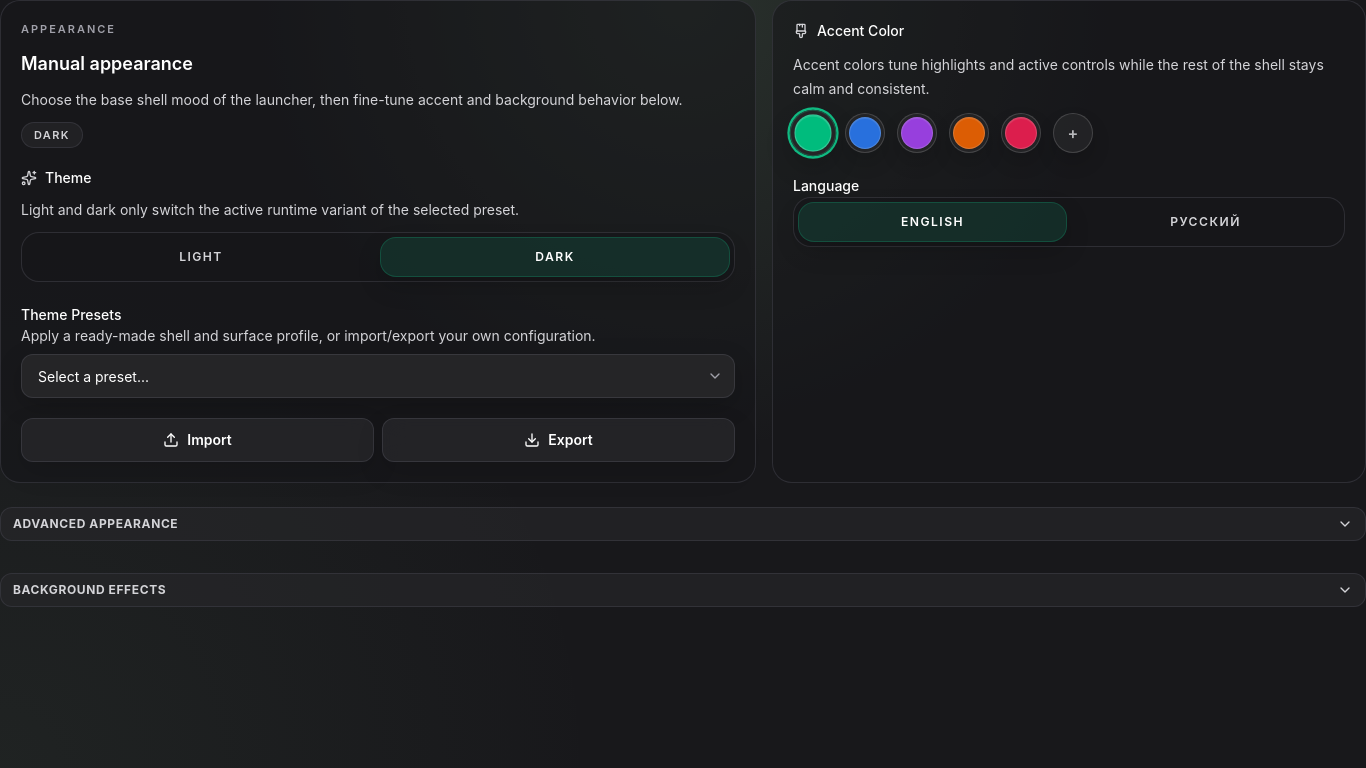
Test case: AppearanceTab preset contract › keeps preset ownership when a bounded advanced override is applied
Select "Forest" in the dropdown named "Theme Presets". click: x=378, y=376
box: 21,354 -> 735,398
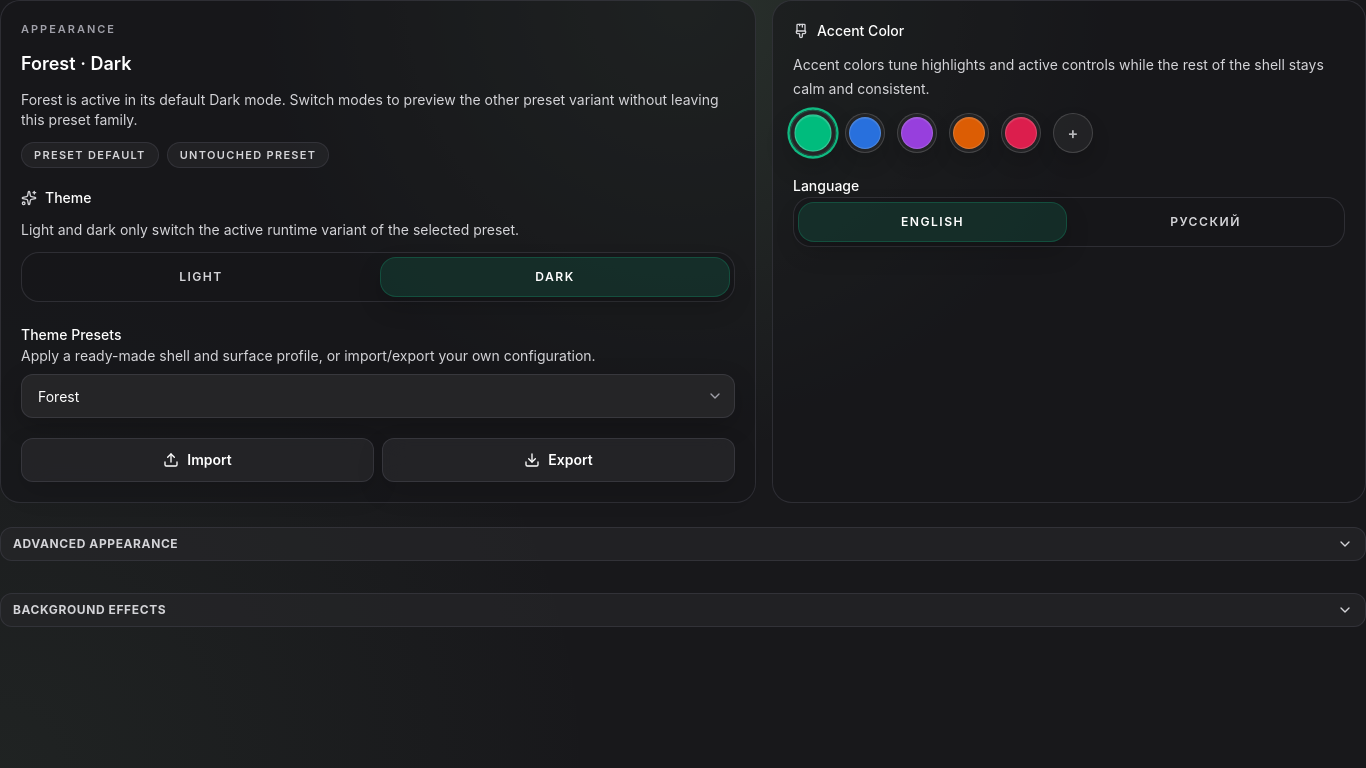
Click the button "Advanced Appearance". click: x=96, y=544
box: 0,527 -> 1365,561
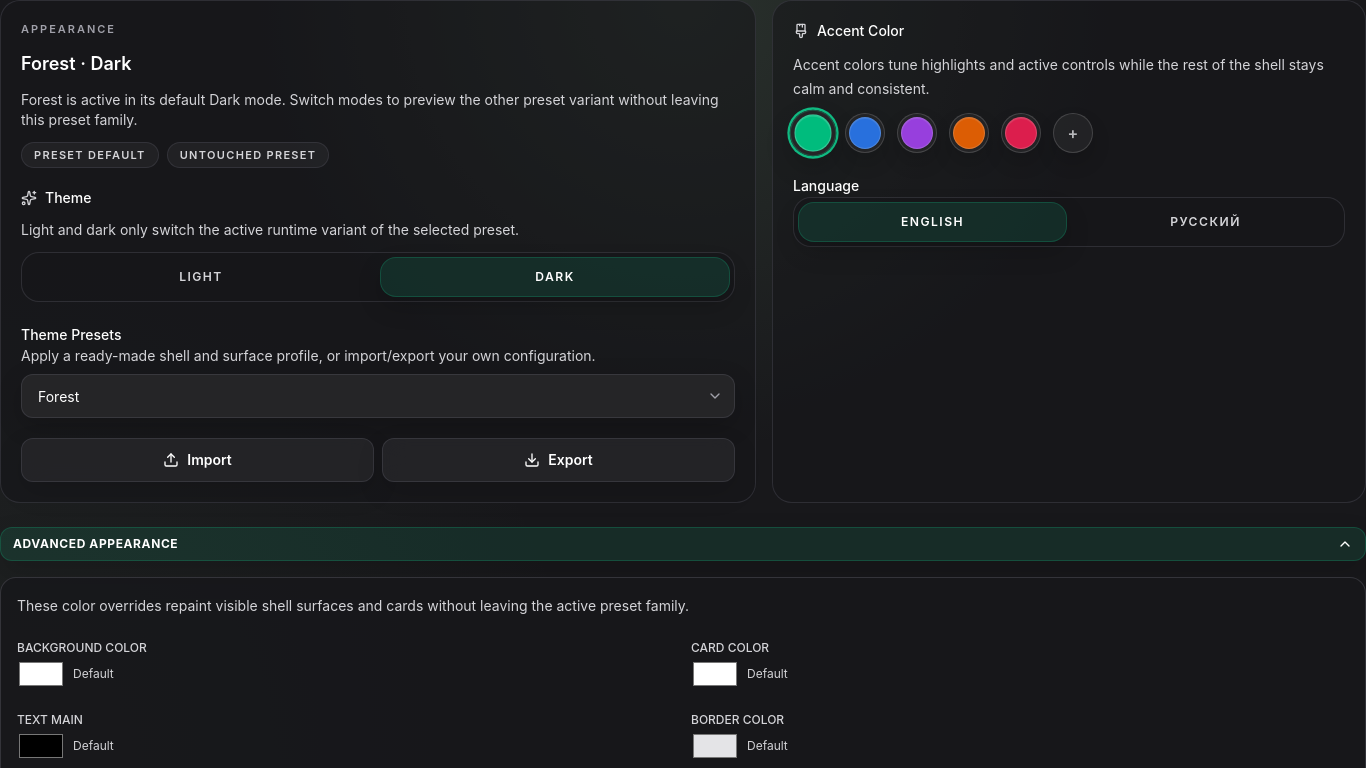
Check: the colour field named "Background Color" is shown
Type "#112233" into the colour field named "Background Color". click: x=41, y=674
box: 17,658 -> 65,690
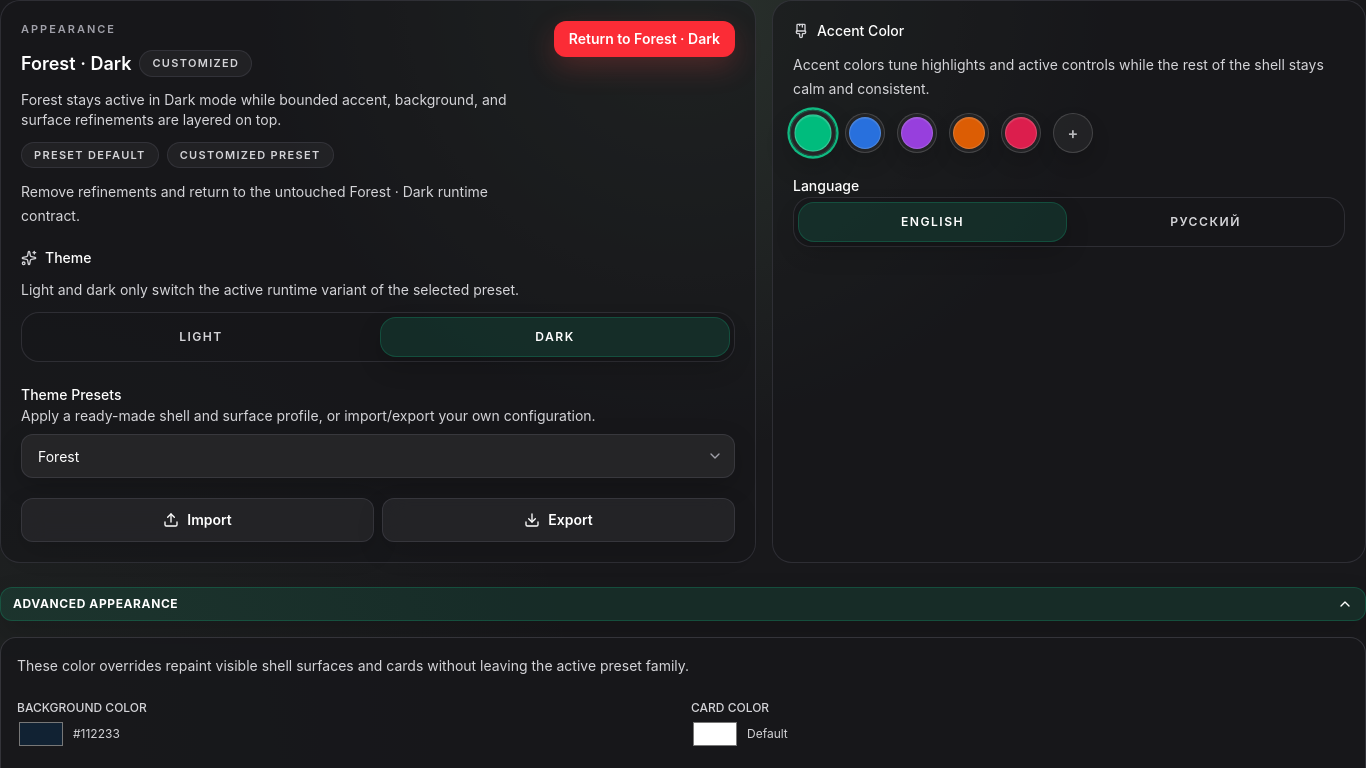
Check: the text "Forest · Dark" is shown, box 21,50 -> 131,78
Check: the text "Customized preset" is shown, box 167,142 -> 334,168
Check: the button "Return to Forest · Dark" is shown, box 554,21 -> 735,57
